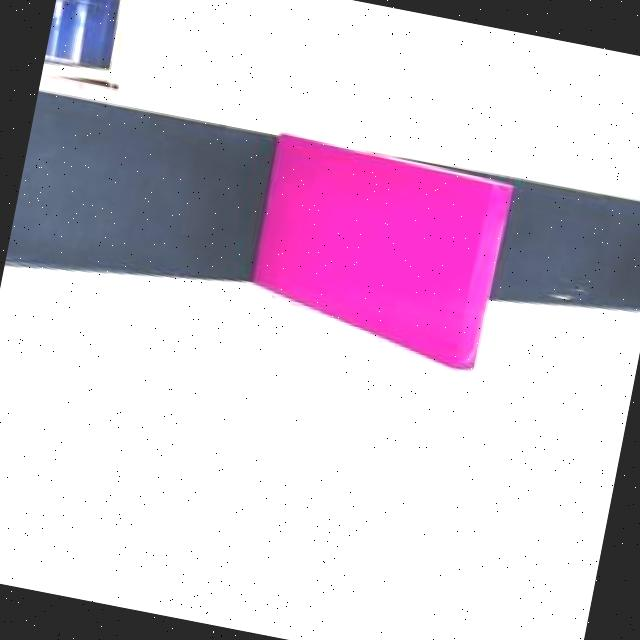xparking: (245, 143, 510, 360)
